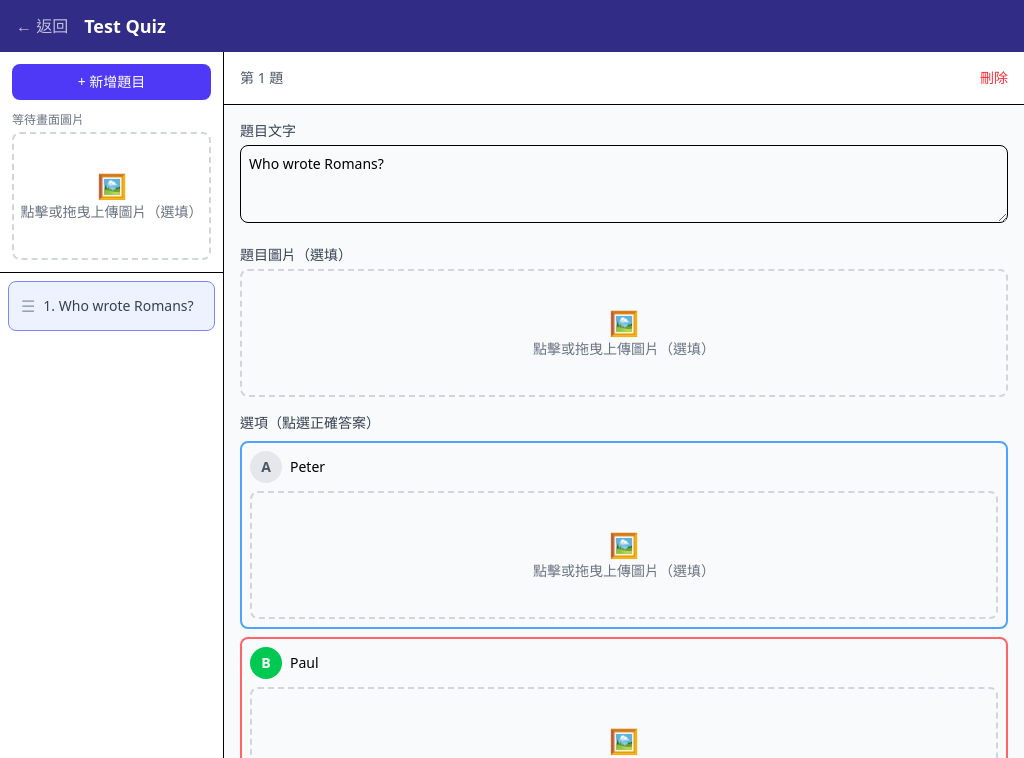
Test: DesignPage › clicking 刪除 removes the current question
Check: the heading "Test Quiz" is shown, box [84,14,166,38]
Click the button with aria-label "刪除題目": click(994, 78) [980,68,1008,88]
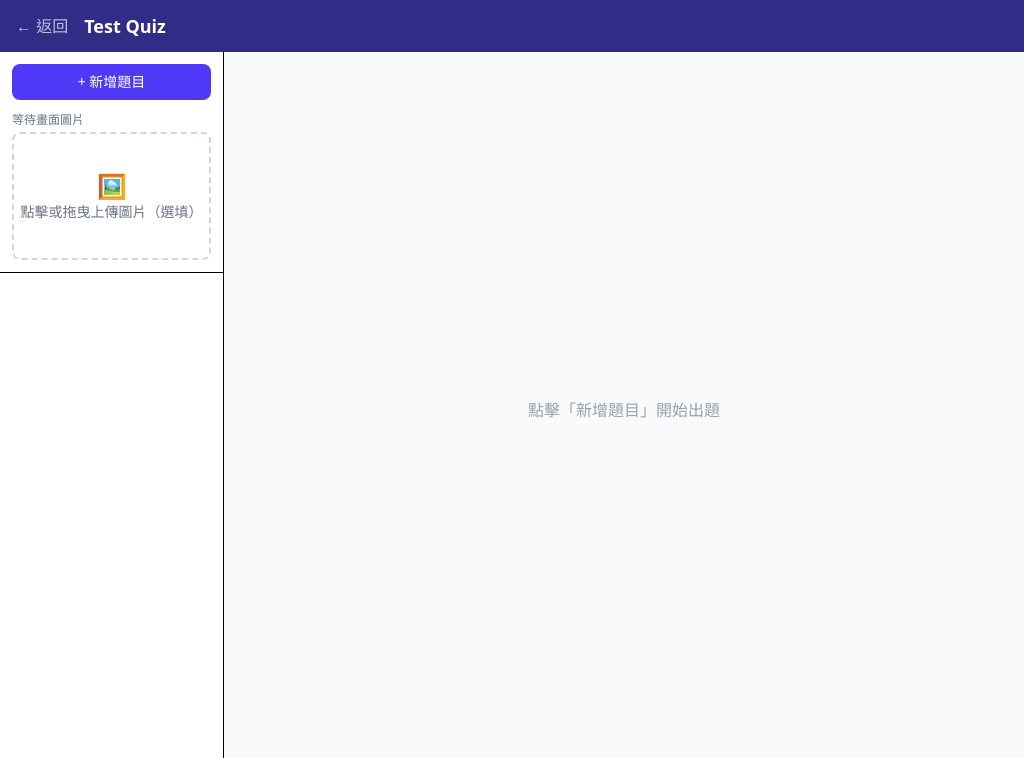
Check: the text "Who wrote Romans" is gone
